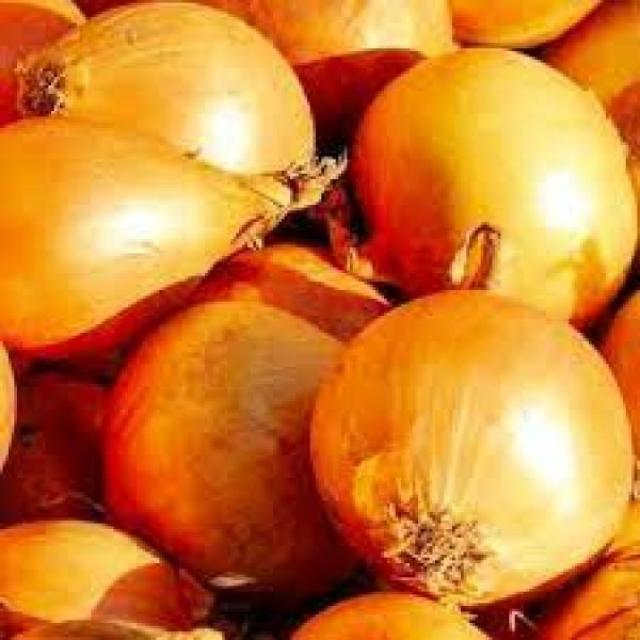Onion: (305, 290, 639, 626), (99, 294, 375, 611), (346, 47, 640, 338), (0, 117, 329, 374), (14, 1, 320, 181)
